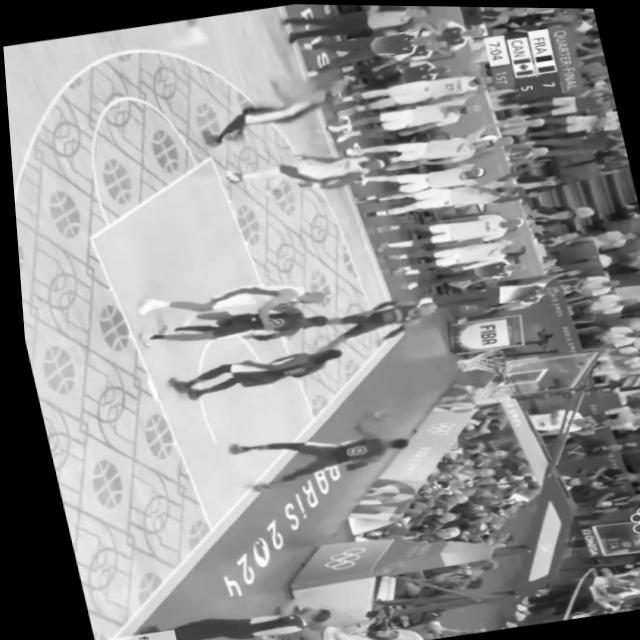ball_handler: (205, 401, 419, 503)
